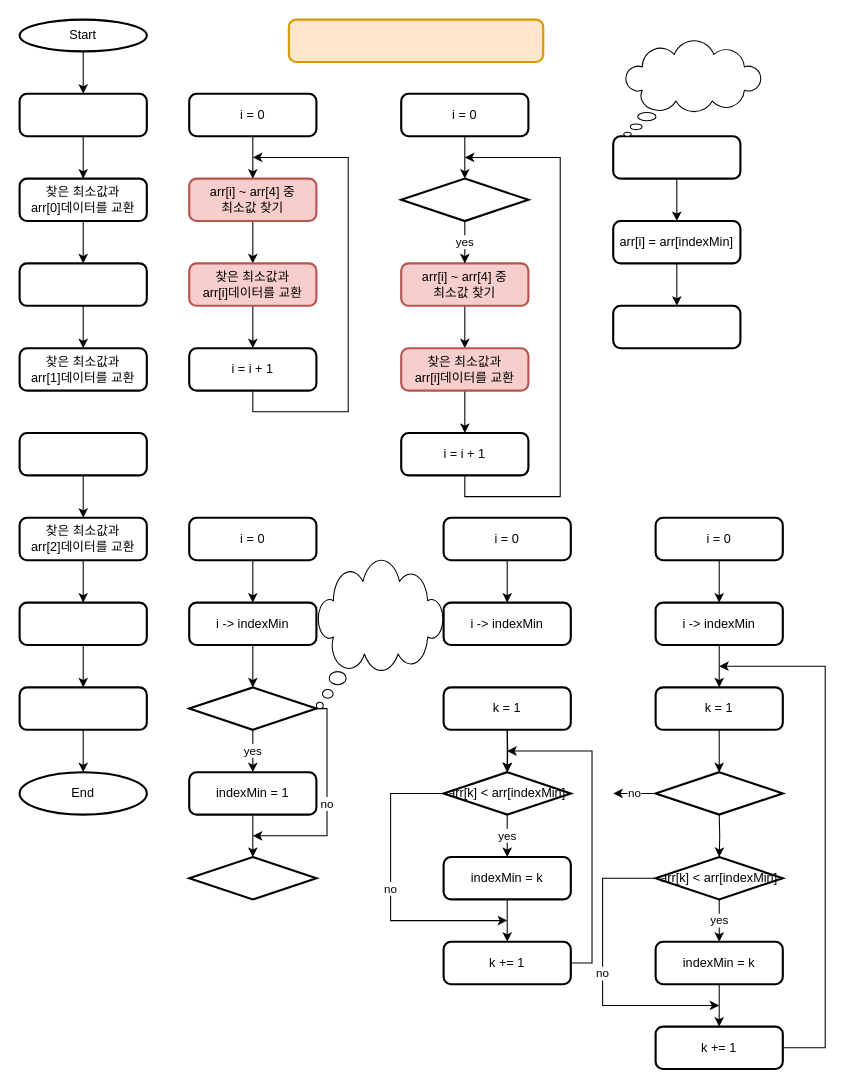
The diagram is 852 pixels wide and 1088 high, and some of its shapes have lost their labels. Here are the shapes that lost their labels. From the top down, the centre of each, then its label:
(x=415, y=40): 정렬 - 단순 탐색법
(x=692, y=88): 찾은 최소값과 arr[i] 데이터를 교환하는 방법
(x=82, y=114): arr[0] ~ arr[4] 중 최소값 찾기
(x=676, y=157): w = arr[i]
(x=464, y=199): i < len(arr)
(x=82, y=284): arr[1] ~ arr[4] 중 최소값 찾기
(x=676, y=326): arr[indexMin] = w
(x=82, y=453): arr[2] ~ arr[4] 중 최소값 찾기
(x=82, y=623): arr[3] ~ arr[4] 중 최소값 찾기
(x=379, y=634): 가장 작은 요소를 찾아 임시 변수에 반복하여 담는다
(x=82, y=708): 찾은 최소값과 arr[3]데이터를 교환
(x=252, y=708): arr[1] < arr[indexMin]
(x=718, y=793): k =< 5
(x=252, y=877): arr[2] < arr[indexMin]
